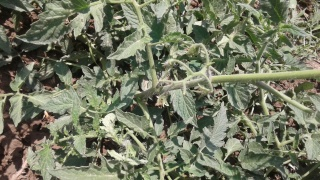tomato plant: (42, 1, 304, 180)
